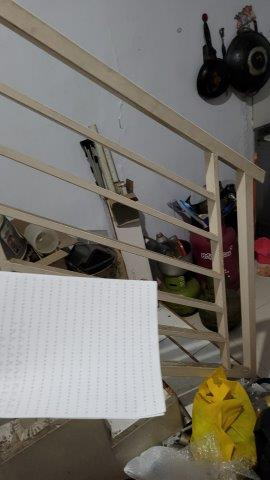kertas: (1, 275, 171, 424)
